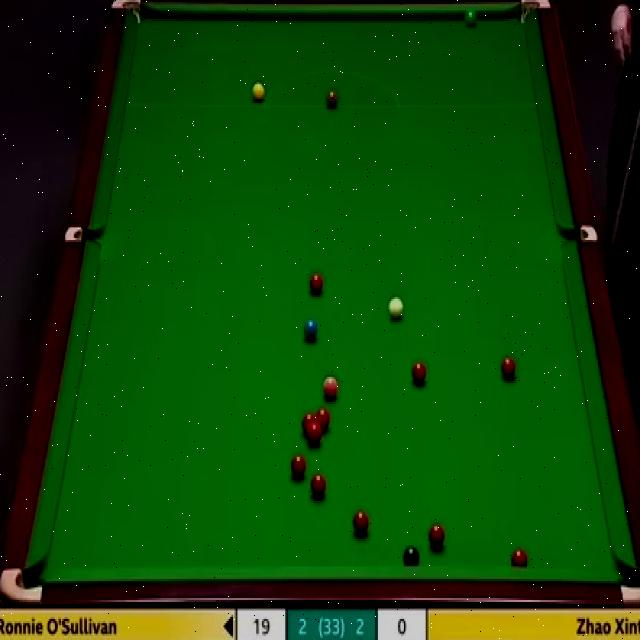black-ball: (401, 545, 419, 569)
blue-ball: (302, 318, 318, 344)
brown-ball: (324, 86, 338, 110)
green-ball: (464, 8, 480, 28)
pink-ball: (322, 374, 339, 402)
red-ball: (350, 510, 369, 538), (309, 473, 327, 502), (411, 358, 428, 388), (427, 523, 445, 551), (290, 454, 306, 481), (501, 354, 516, 381), (309, 273, 325, 298), (316, 408, 331, 434), (512, 546, 528, 568), (302, 412, 315, 434), (308, 426, 322, 446)
white-ball: (387, 293, 406, 323)
yellow-ball: (250, 81, 265, 102)
